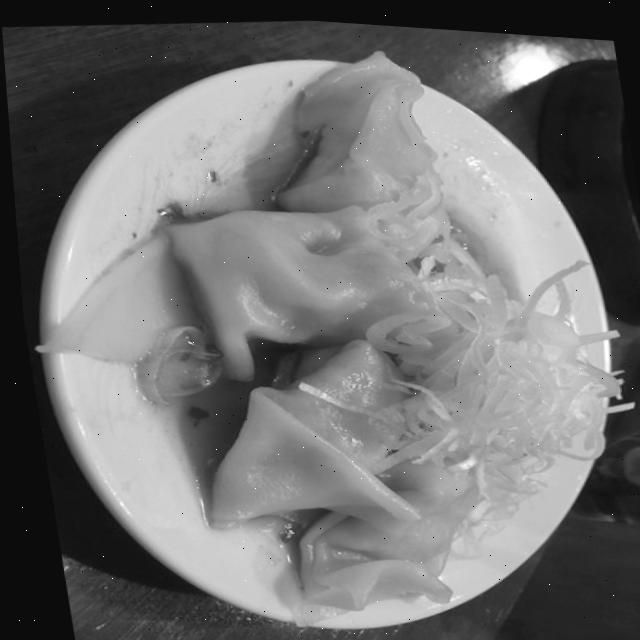带馅早点: (6, 8, 640, 640)
